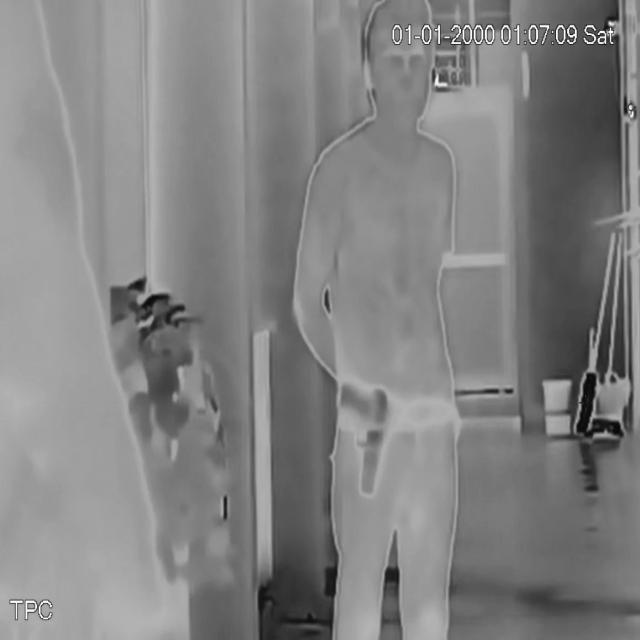Weapon: (336, 370, 394, 504)
